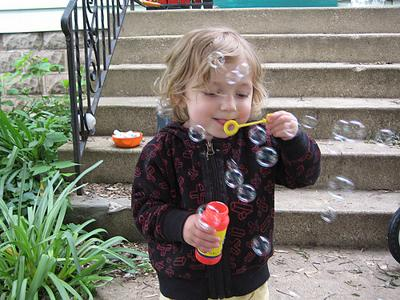person: (131, 28, 323, 300)
